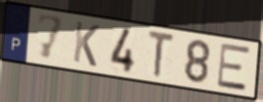4: (108, 25, 137, 75)
7: (35, 12, 65, 63)
8: (183, 38, 212, 86)
E: (216, 43, 252, 93)
K: (71, 19, 102, 69)
T: (146, 29, 177, 80)
